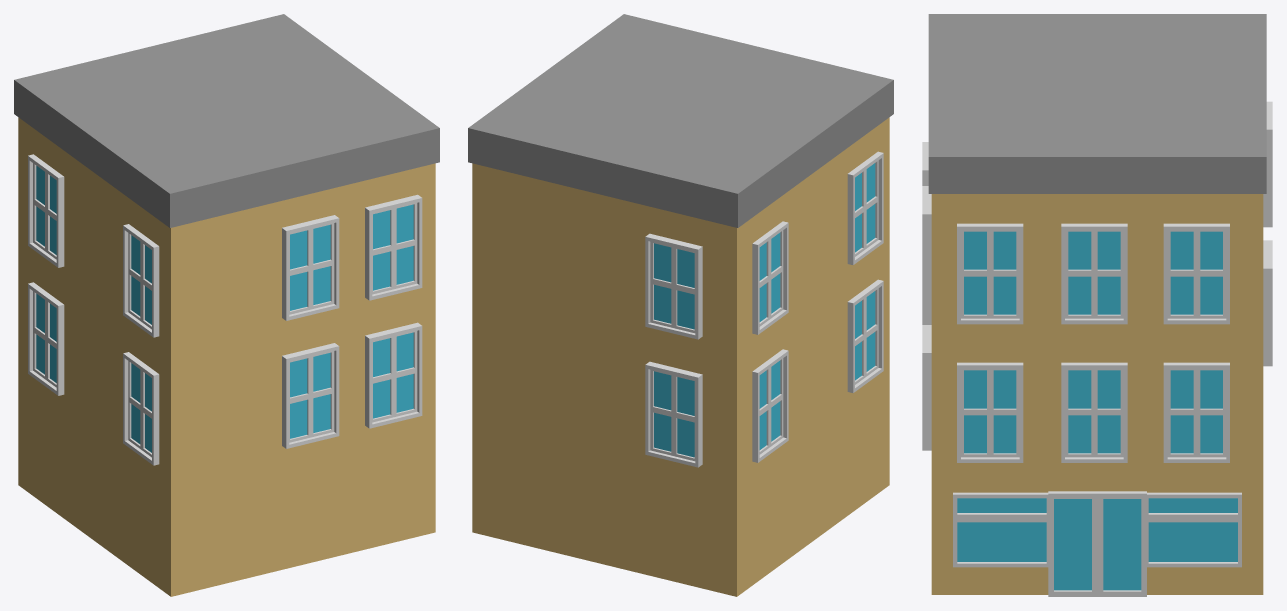
File: building1.fbx
3 renders of one model, left to right at view 1: azimuth 30°, elevation 25°; view 2: azimuth 150°, elevation 25°; view 3: azimuth 270°, elevation 25°, orthographic. The views are drawn at different scales.
Visible parts, largest first — view 1: Plane; view 2: Plane; view 3: Plane.
Part boxes in pixels (x1,y1,x2,y2): Plane: [14, 14, 439, 596]; Plane: [468, 14, 893, 596]; Plane: [922, 14, 1272, 596].
Size of the model in its own units: 1042 by 1462 by 1057.
